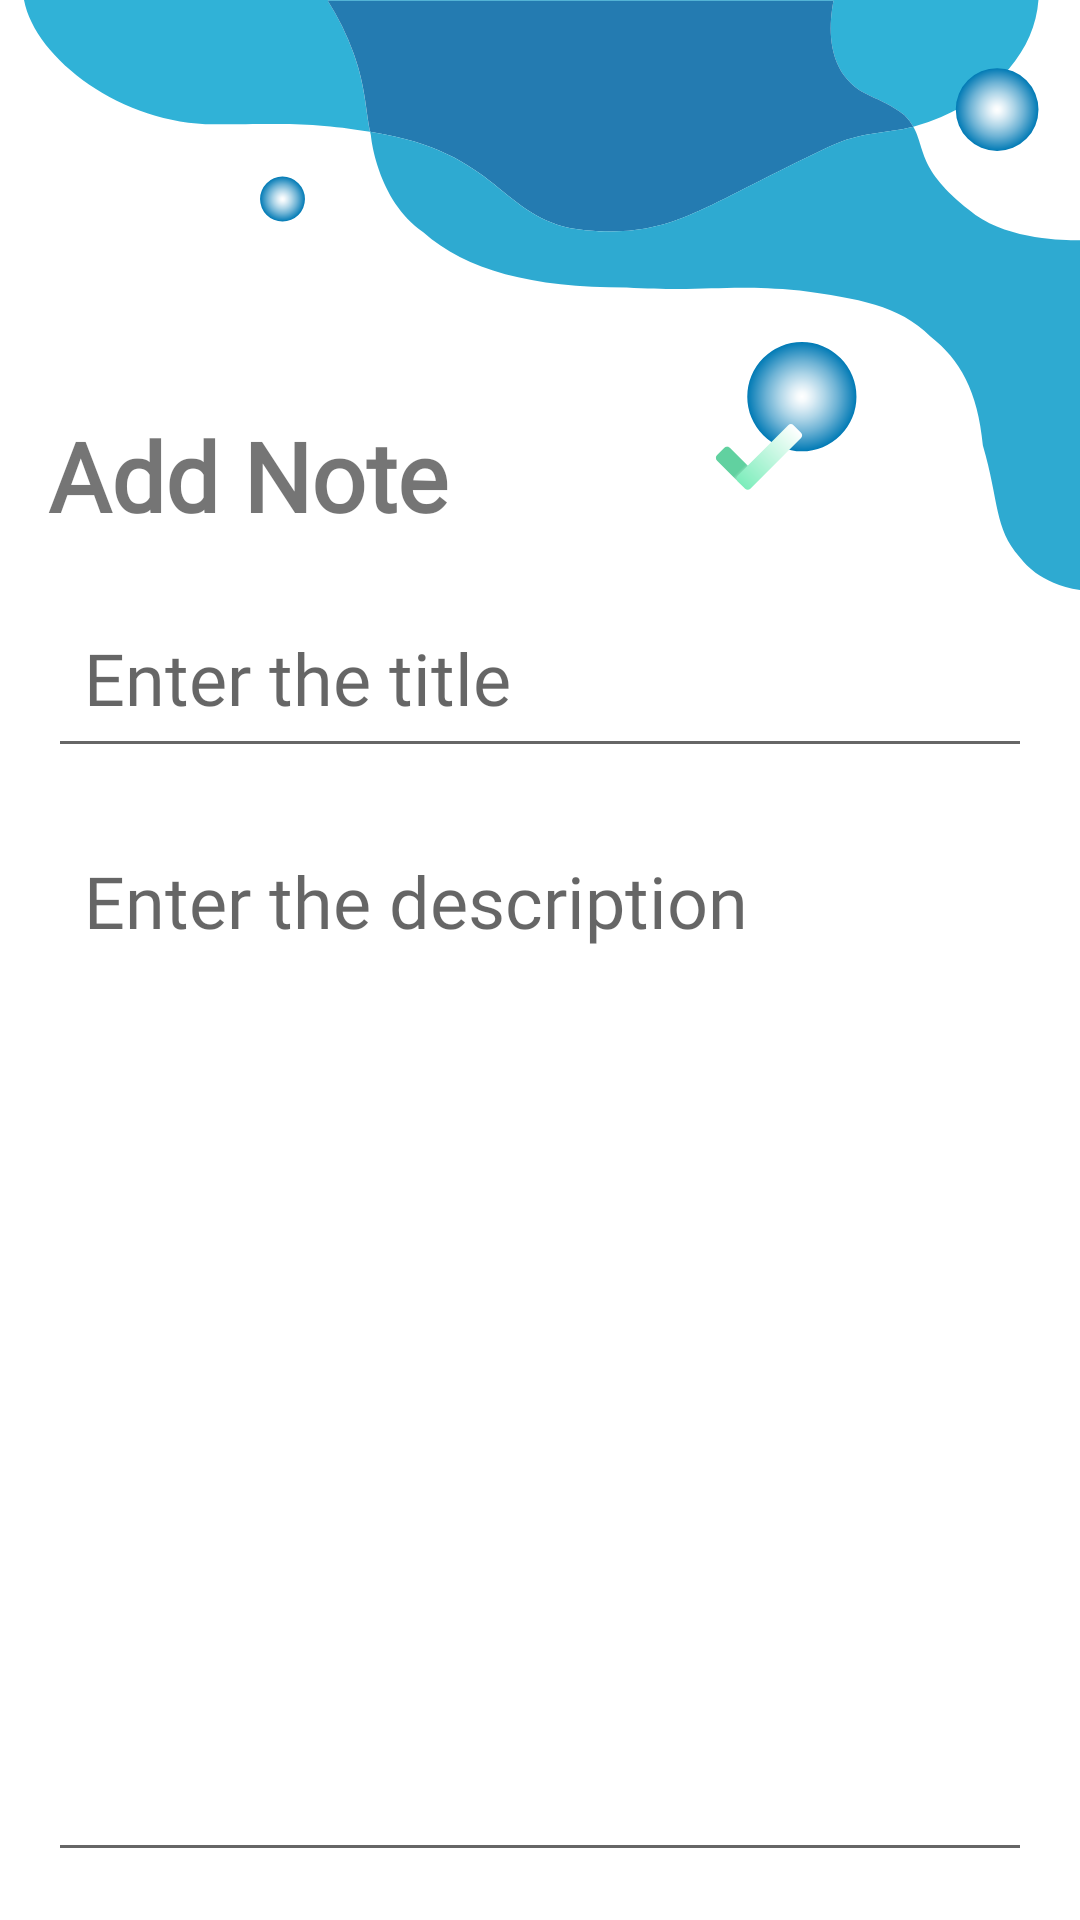

Icons on this 1080*1920 Android screen, each with its box as (x1, y1, x2, y2):
done: (716, 411, 804, 490)
